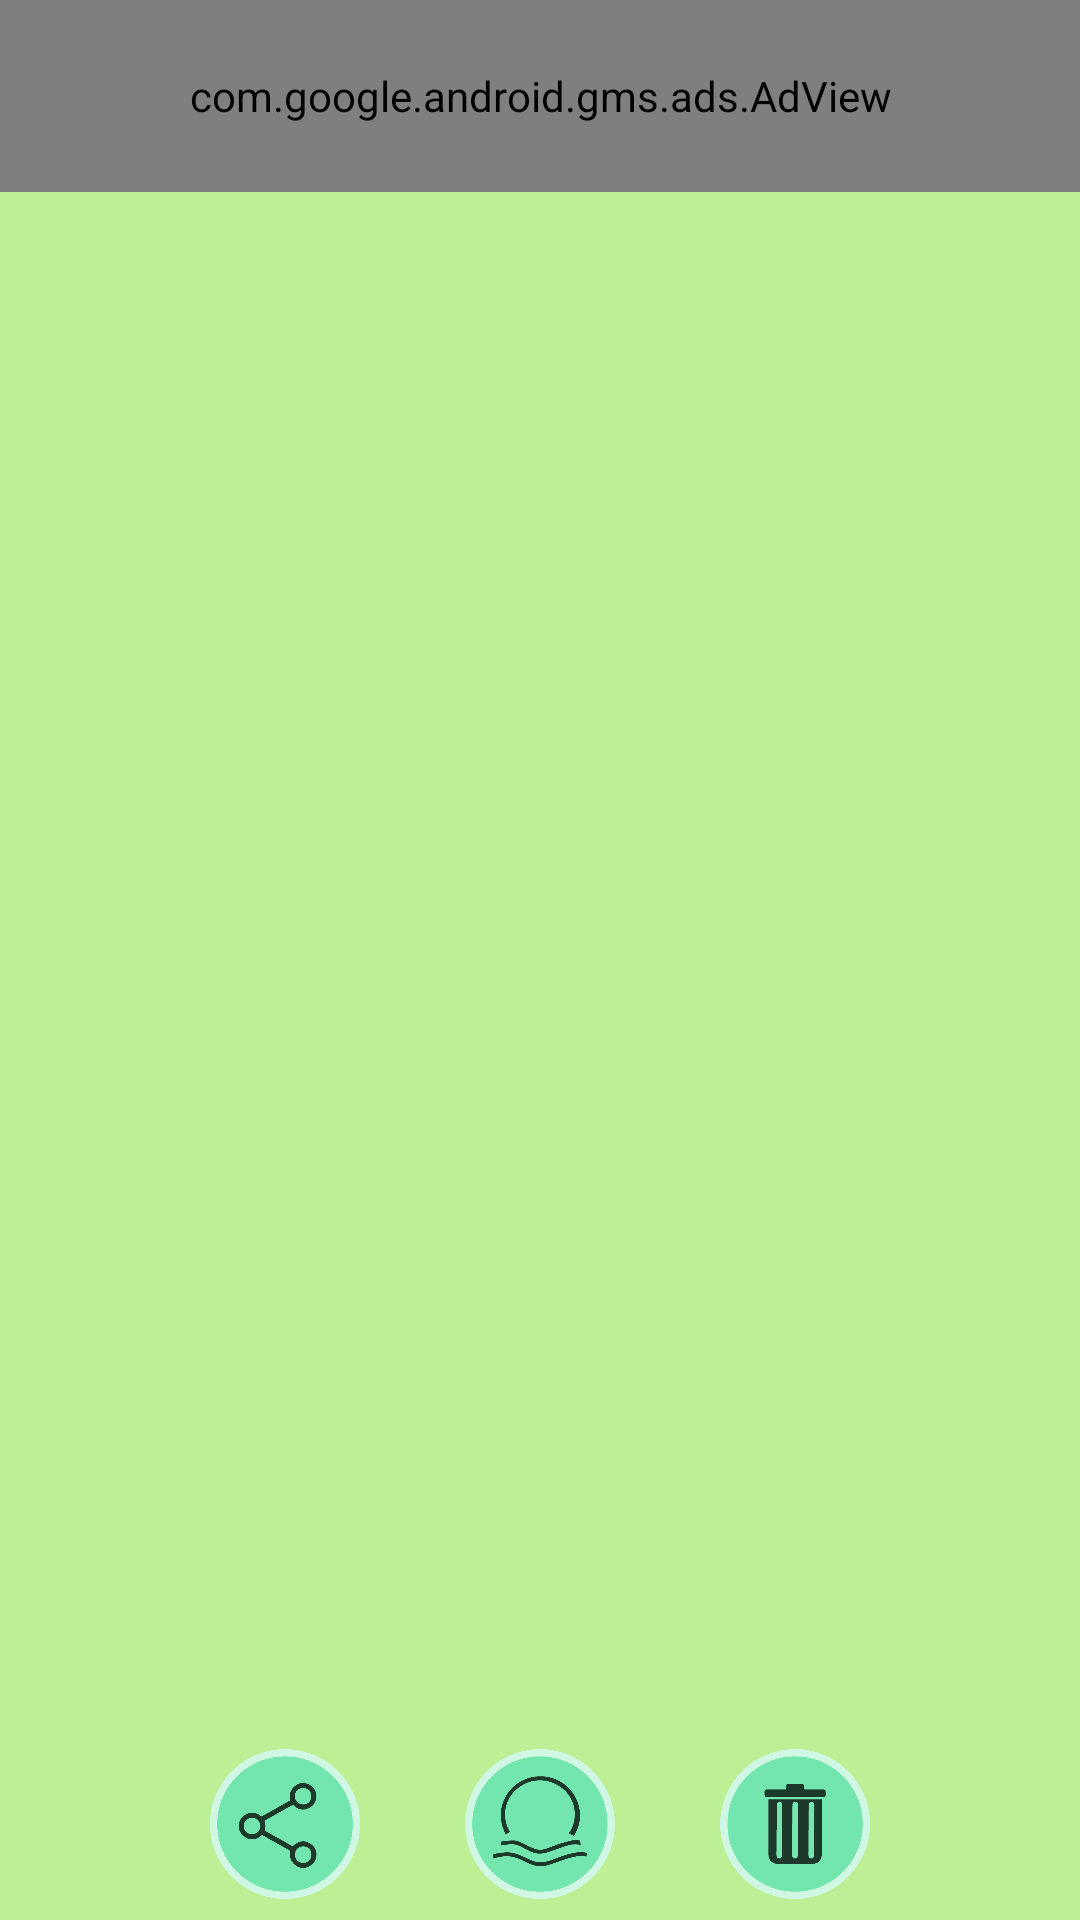

Icons on this 1080x1920 Android screen, each with the point to tap as point (x, y):
del: point (795, 1824)
share: point (285, 1824)
